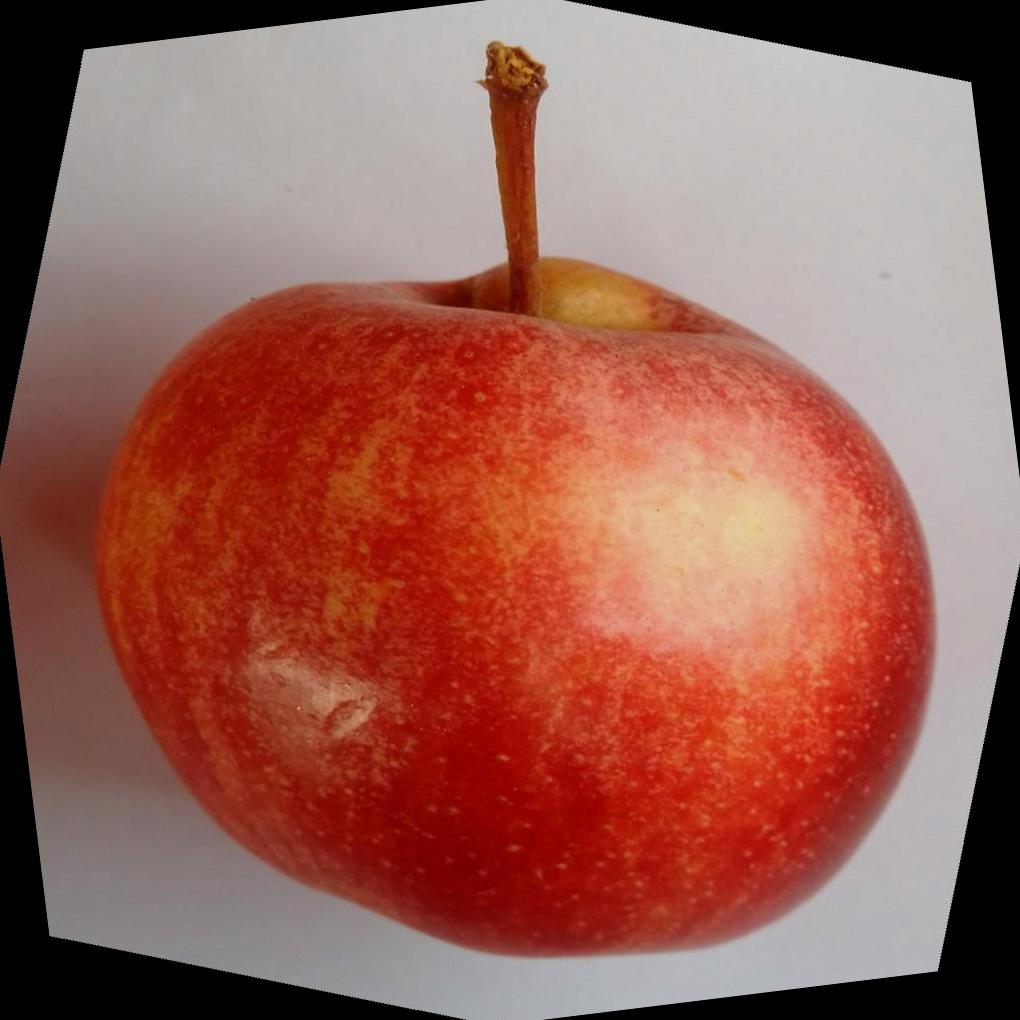FreshGuava: (89, 39, 939, 958)
